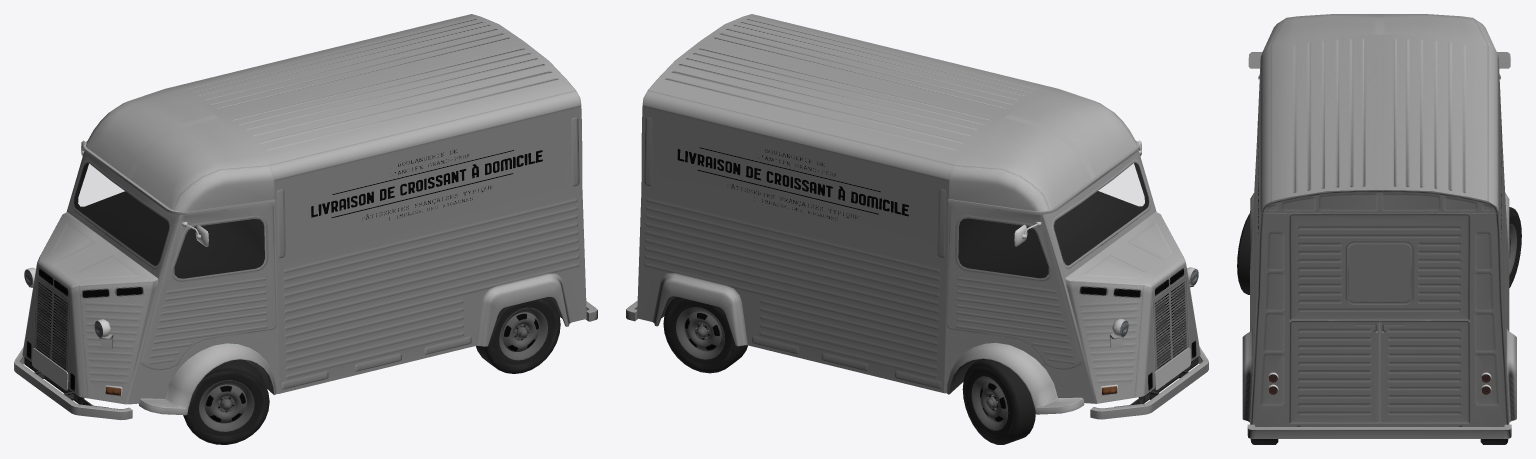
The model's file is van.glb.
The picture shows the model from 3 angles, left to right: view 1: azimuth 30°, elevation 25°; view 2: azimuth 150°, elevation 25°; view 3: azimuth 270°, elevation 25°; orthographic projection. The views are drawn at different scales.
Parts seen in each view (by area): view 1: m; view 2: m; view 3: m.
Boxes of the visible parts, x1=… form: m: x1=14, y1=14, x2=597, y2=444; m: x1=626, y1=14, x2=1208, y2=444; m: x1=1237, y1=14, x2=1521, y2=444.
Size of the model in its own units: 4.3 by 2.27 by 2.08.
Materials: 9 (6 with a texture image).
